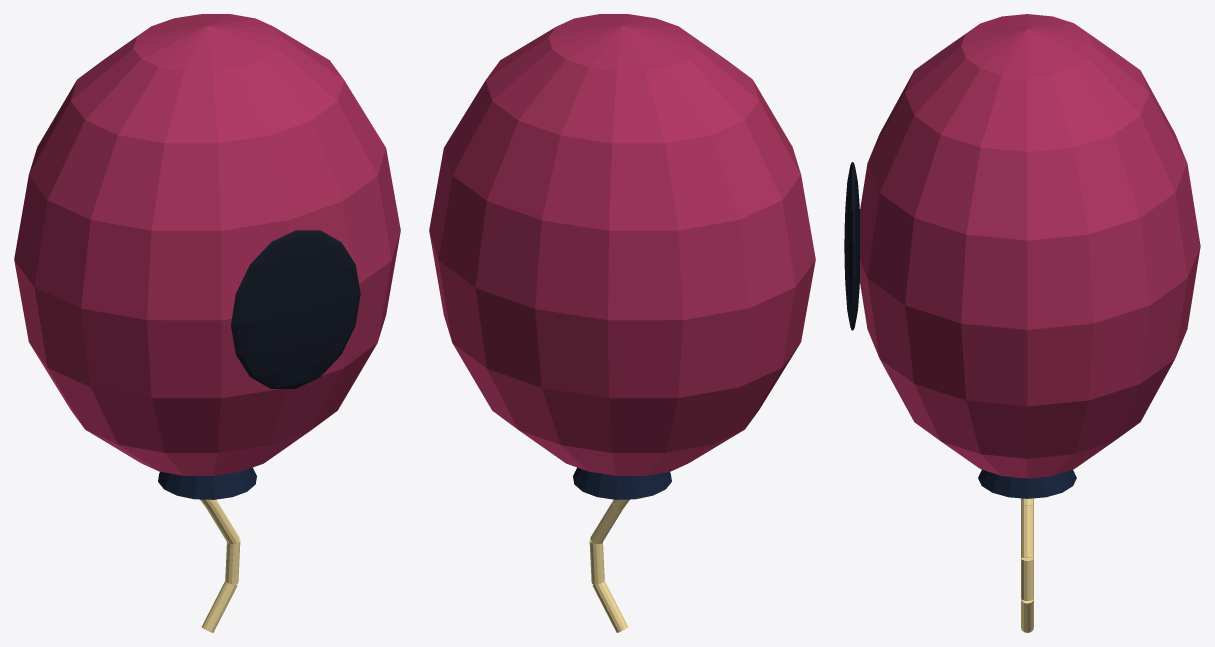
The model's file is Item_ink_balloon.fbx.
The picture shows the model from 3 angles, left to right: view 1: azimuth 30°, elevation 25°; view 2: azimuth 150°, elevation 25°; view 3: azimuth 270°, elevation 25°; orthographic projection.
Parts seen in each view (by area): view 1: Item_ink_balloon.Mesh; view 2: Item_ink_balloon.Mesh; view 3: Item_ink_balloon.Mesh.
Part boxes in pixels (x1=…): Item_ink_balloon.Mesh: x1=14, y1=14, x2=400, y2=632; Item_ink_balloon.Mesh: x1=429, y1=14, x2=815, y2=632; Item_ink_balloon.Mesh: x1=844, y1=14, x2=1200, y2=632.
Size of the model in its own units: 48 by 80.42 by 43.2.
